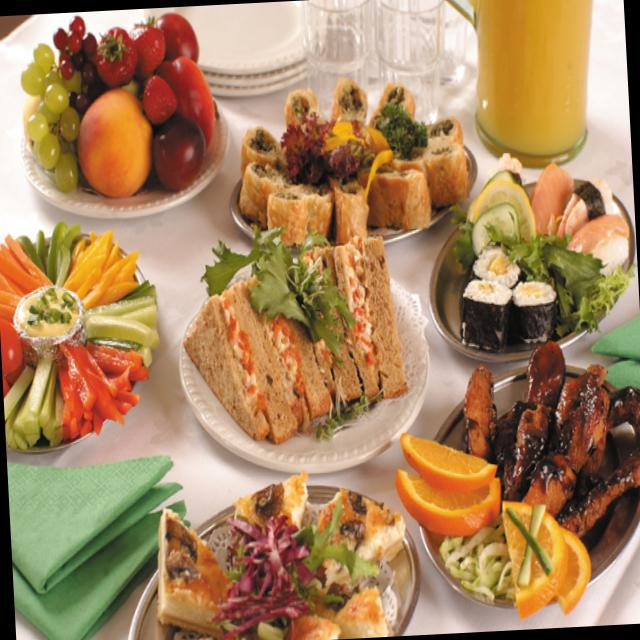dish -X: (181, 247, 430, 474), (20, 38, 226, 221)
dishes crop: (143, 2, 317, 95)
fish tank: (533, 162, 628, 274), (460, 239, 557, 346)
food procesor: (157, 477, 403, 640), (239, 76, 467, 246)
fruits bowl: (21, 11, 214, 198)
glass ceiling: (375, 0, 443, 126), (301, 0, 369, 118)
jar occluded: (470, 0, 592, 168)
lemon slice: (469, 179, 530, 245)
lettuce: (508, 229, 627, 328)
napkin ring: (8, 459, 192, 640)
orange: (393, 430, 499, 536), (501, 501, 590, 615)
roast chicken: (466, 339, 640, 530)
sandwichs: (182, 233, 406, 443)
tray occluded: (418, 361, 640, 609), (128, 486, 419, 640), (429, 180, 630, 362), (230, 134, 475, 246)
vegetables: (5, 221, 159, 444), (441, 509, 513, 597)
